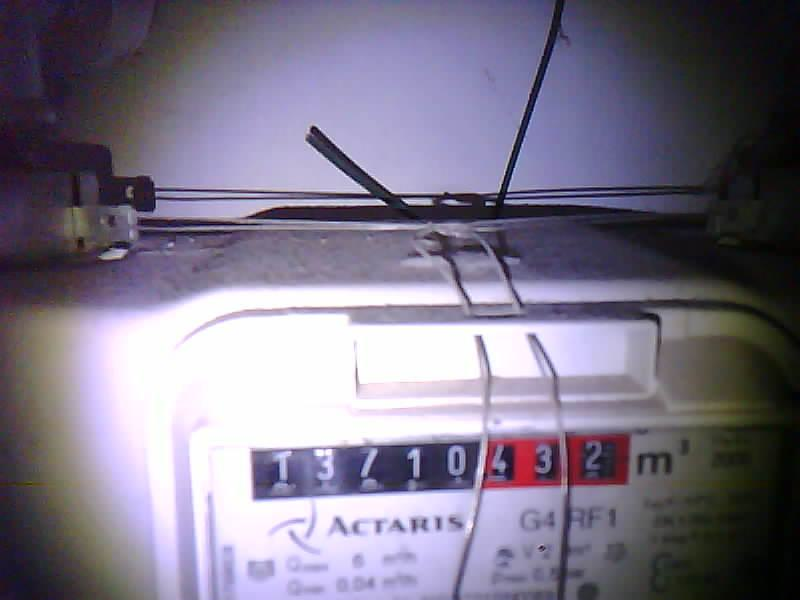nums: (248, 432, 631, 491)
